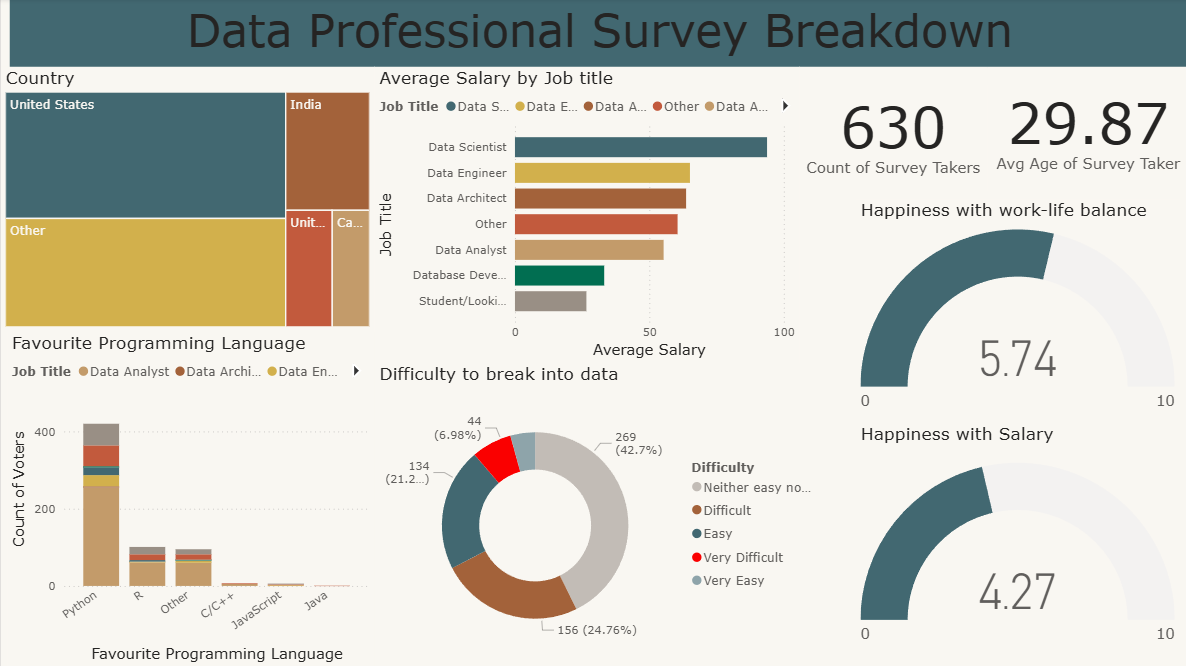

What the dashboard file says about the page in this screenshot:
{"tool":"powerbi","page":{"name":"Page 1","canvas":[1280,720],"ordinal":0},"visuals":[{"type":"textbox","box":[9.6,0,1270.7,74.1],"z":0},{"type":"card","fields":{"Values":["CountNonNull(Data Professional Survey.Unique ID)"]},"box":[860.2,74,201.9,142.7],"z":1000},{"type":"card","fields":{"Values":["Avg(Data Professional Survey.Q10 - Current Age)"]},"box":[1062.2,74,218.1,133.3],"z":2000},{"type":"barChart","title":"Average Salary by Job title","fields":{"Category":["Data Professional Survey.Q1 - Which Title Best Fits your Current Role?.1"],"Y":["Avg(Data Professional Survey.Average Salary)"],"Series":["Data Professional Survey.Q1 - Which Title Best Fits your Current Role?.1"]},"box":[402.5,74,457.7,319.1],"z":3000},{"type":"columnChart","title":"Favourite Programming Language","fields":{"Category":["Data Professional Survey.Q5 - Favorite Programming Language.1"],"Y":["CountNonNull(Data Professional Survey.Unique ID)"],"Series":["Data Professional Survey.Q1 - Which Title Best Fits your Current Role?.1"]},"box":[6.9,359.5,395.2,360.9],"z":4000},{"type":"treemap","title":"Country ","fields":{"Group":["Data Professional Survey.Q11 - Which Country do you live in?.1"],"Values":["CountNonNull(Data Professional Survey.Q11 - Which Country do you live in?.1)"]},"box":[0,74.1,402.1,285.4],"z":5000},{"type":"gauge","title":"Happiness  with work-life balance","fields":{"Y":["Avg(Data Professional Survey.Q6 - How Happy are you in your Current Position with the following? (Work/Life Balance))"],"MinValue":["Min(Data Professional Survey.Q6 - How Happy are you in your Current Position with the following? (Work/Life Balance))1"],"MaxValue":["Max(Data Professional Survey.Q6 - How Happy are you in your Current Position with the following? (Work/Life Balance))2"]},"box":[920.8,216.8,348.5,241.5],"z":6000},{"type":"gauge","title":"Happiness with Salary","fields":{"Y":["Avg(Data Professional Survey.Q6 - How Happy are you in your Current Position with the following? (Salary))"],"MinValue":["Min(Data Professional Survey.Q6 - How Happy are you in your Current Position with the following? (Salary))"],"MaxValue":["Max(Data Professional Survey.Q6 - How Happy are you in your Current Position with the following? (Salary))"]},"box":[920.8,458.3,348.5,262.1],"z":7000},{"type":"donutChart","title":"Difficulty to break into data","fields":{"Category":["Data Professional Survey.Q7 - How difficult was it for you to break into Data?"],"Y":["CountNonNull(Data Professional Survey.Q7 - How difficult was it for you to break into Data?)"]},"box":[402.1,392.5,489.9,328],"z":8000}]}

Visuals, with their boxes in screenshot pixels (x1, y1, x2, y2), scaled from the page's 1280x720 canvas onto the 1186x666 screenshot:
textbox: {"left": 9, "top": 0, "right": 1185, "bottom": 69}
card - CountNonNull(Data Professional Survey.Unique ID): {"left": 797, "top": 68, "right": 984, "bottom": 200}
card - Avg(Data Professional Survey.Q10 - Current Age): {"left": 984, "top": 68, "right": 1185, "bottom": 192}
"Average Salary by Job title" barChart: {"left": 373, "top": 68, "right": 797, "bottom": 364}
"Favourite Programming Language" columnChart: {"left": 6, "top": 333, "right": 373, "bottom": 665}
"Country " treemap: {"left": 0, "top": 69, "right": 373, "bottom": 333}
"Happiness  with work-life balance" gauge: {"left": 853, "top": 201, "right": 1176, "bottom": 424}
"Happiness with Salary" gauge: {"left": 853, "top": 424, "right": 1176, "bottom": 665}
"Difficulty to break into data" donutChart: {"left": 373, "top": 363, "right": 826, "bottom": 665}
